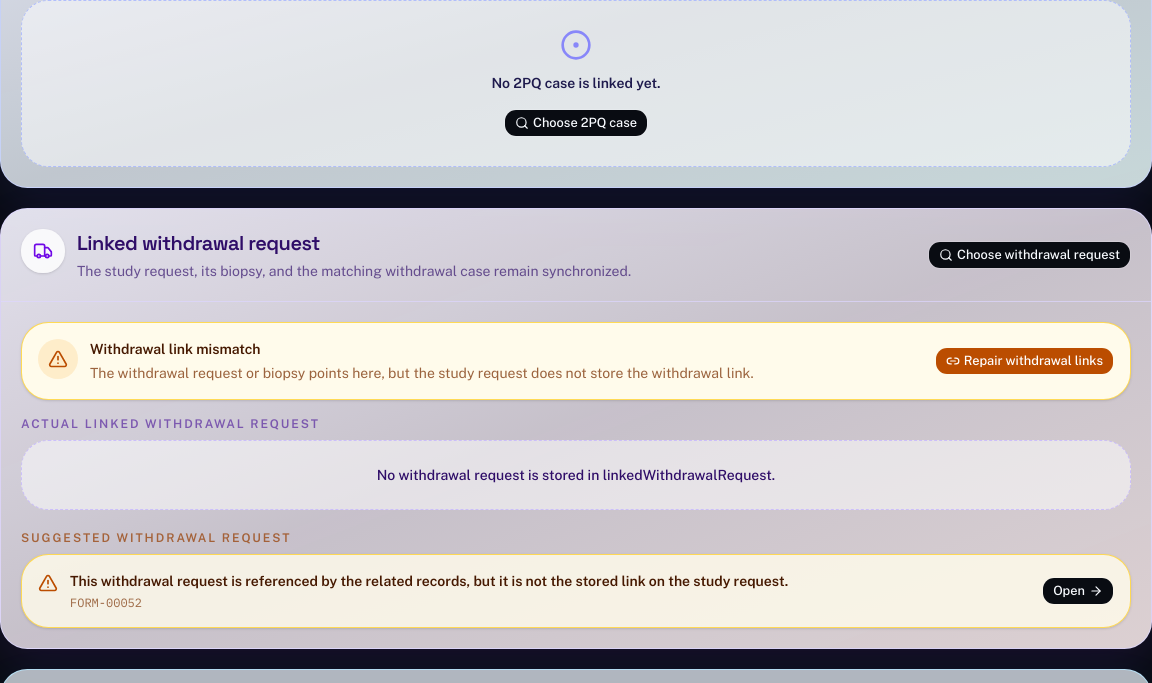
Test: TwoPQFormDetail › repairs a suggested withdrawal request and clearly stores the actual link
(page scrolled)
Expected: the text "Withdrawal link mismatch" is shown, [90, 341, 260, 357]
Expected: the text "Suggested withdrawal request" is shown, [21, 531, 292, 545]
Click the button "Repair withdrawal links" at (1024, 361), box [935, 347, 1114, 375]
(page scrolled)
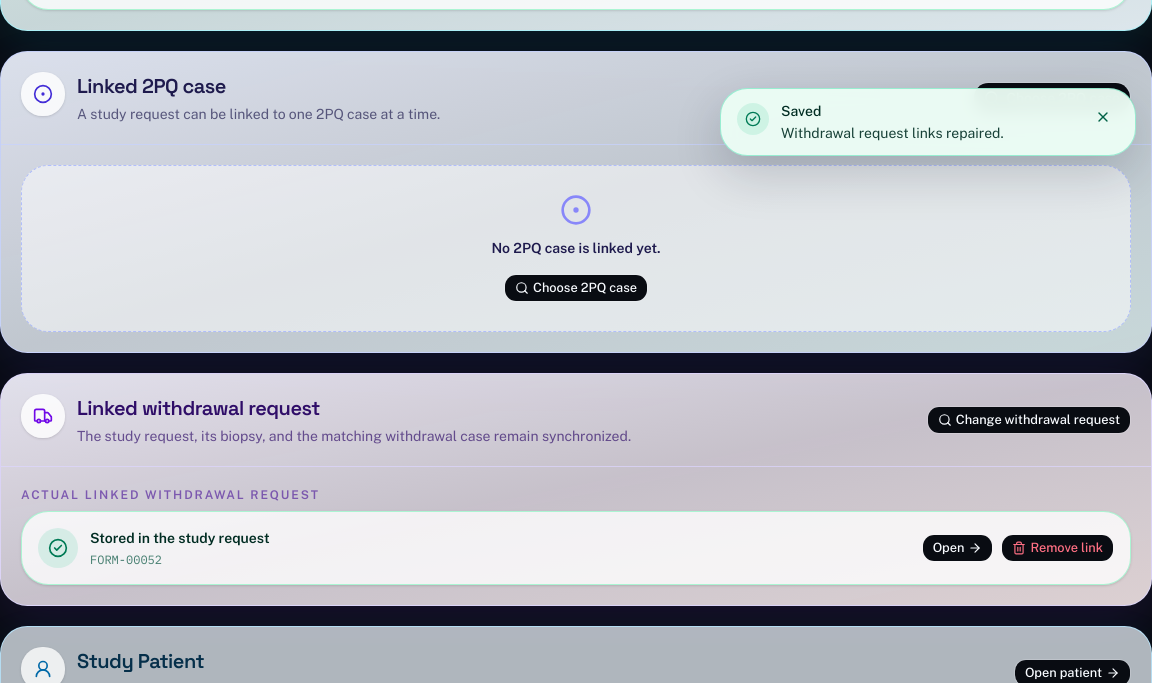
Expected: the text "Suggested withdrawal request" is gone
Expected: the text "Withdrawal link mismatch" is gone
